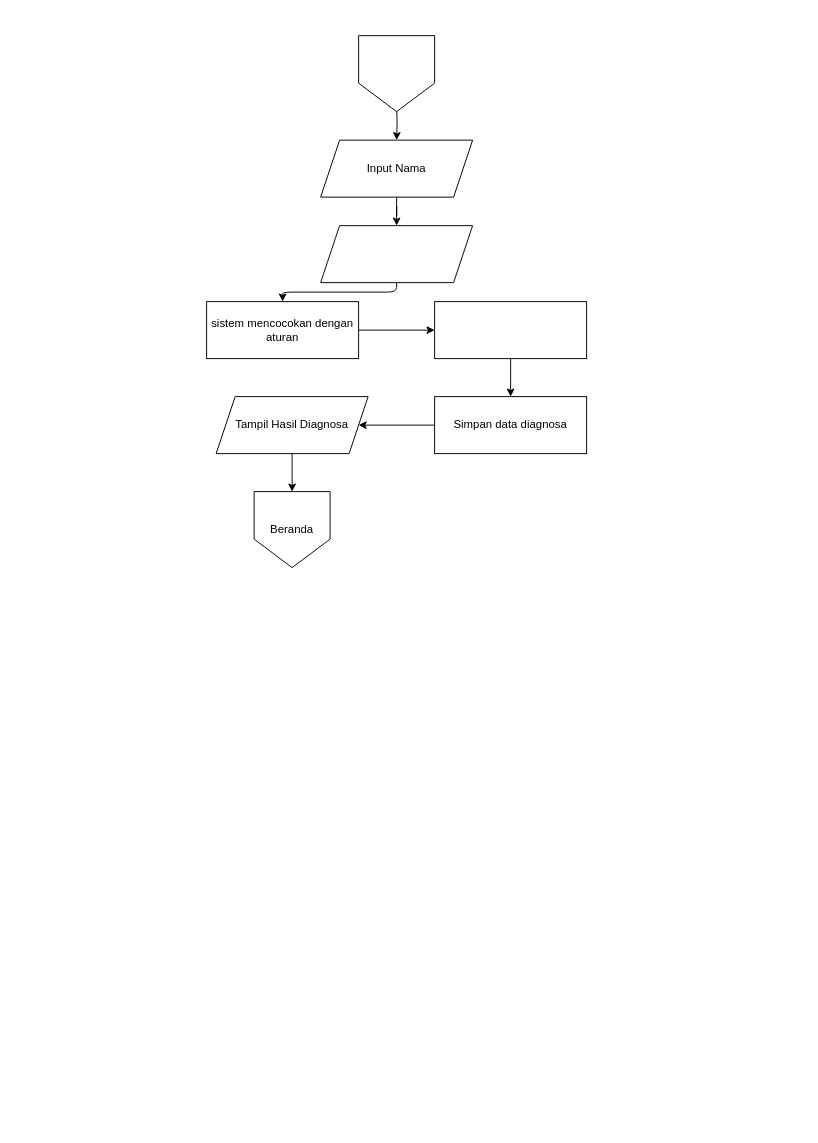
Some shapes in this 818 by 1143 pixel diagram are drawn without their labels. Each missing label, with the box of its shape:
Hitung Tingkat Kecocokan: (434, 301, 587, 359)
Pilih Gejala yang muncul: (320, 225, 473, 283)
Tampil konsultasi: (358, 35, 435, 112)
